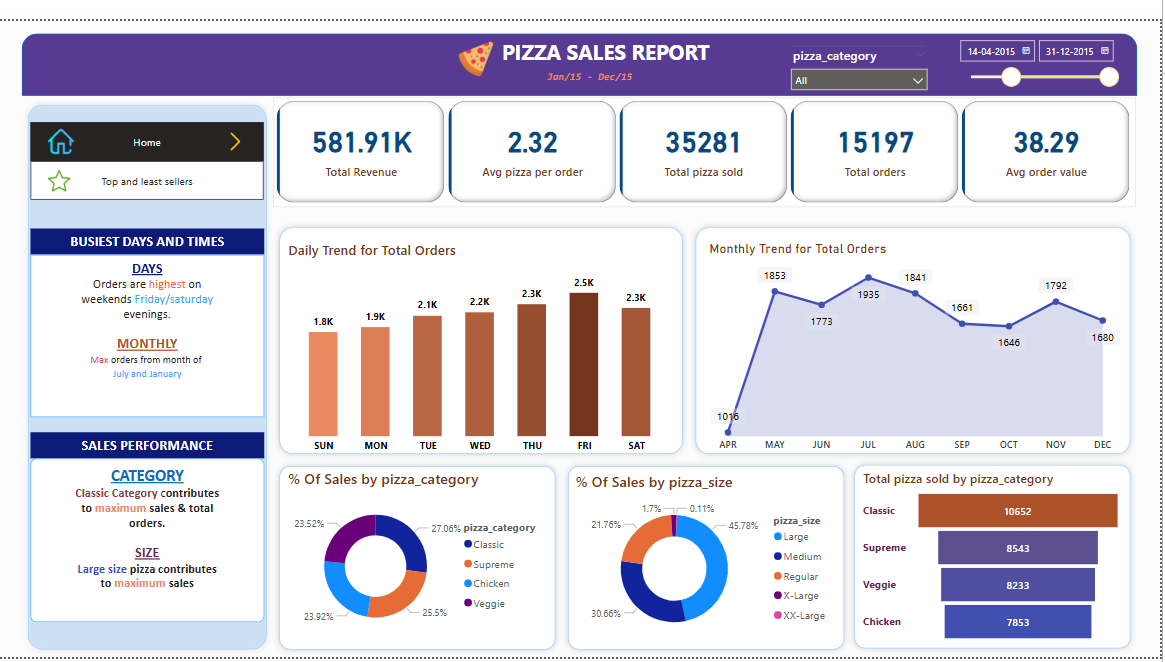

This screenshot's page, from the dashboard's own definition file:
{"tool":"powerbi","page":{"name":"Home","canvas":[1500,820],"ordinal":0},"visuals":[{"type":"cardVisual","fields":{"Data":["public pizza_sales.Total Revenue","public pizza_sales.Avg pizza per order","public pizza_sales.Total pizza sold","public pizza_sales.Total orders","public pizza_sales.Avg order value"]},"box":[355.4,98.1,1114.4,141.5],"z":0},{"type":"shape","box":[30.6,16.1,1439.2,80.4],"z":1000},{"type":"textbox","box":[606.2,16.1,355.4,56.3],"z":2000},{"type":"textbox","box":[688.3,56.3,149.6,41.8],"z":3000},{"type":"image","box":[574.1,20.9,85.2,56.3],"z":4000},{"type":"shape","box":[355.4,257.3,537.1,308.7],"z":5000},{"type":"columnChart","title":"Daily Trend for Total Orders","fields":{"Category":["public pizza_sales.Order Day"],"Y":["public pizza_sales.Total orders"]},"box":[369.9,284.6,506.5,281.4],"z":6000},{"type":"shape","box":[892.5,257.3,577.3,308.7],"z":7000},{"type":"areaChart","title":"Monthly Trend for Total Orders","fields":{"Category":["public pizza_sales.Order Month"],"Y":["public pizza_sales.Total orders"]},"box":[913.4,284.6,541.9,281.4],"z":8000},{"type":"shape","box":[354.8,566.1,372.6,253.2],"z":9000},{"type":"shape","box":[727.4,566.1,372.6,253.2],"z":10000},{"type":"shape","box":[30.6,100,324.2,719.4],"z":11000},{"type":"shape","box":[1096.8,564.5,372.6,253.2],"z":12000},{"type":"donutChart","title":"% Of Sales by pizza_category","fields":{"Category":["public pizza_sales.pizza_category"],"Y":["public pizza_sales.Total Revenue"]},"box":[369.4,577.4,345.2,227.4],"z":13000},{"type":"donutChart","title":"% Of Sales by pizza_size","fields":{"Y":["public pizza_sales.Total Revenue"],"Category":["public pizza_sales.pizza_size"]},"box":[740.3,580.6,345.2,227.4],"z":14000},{"type":"funnel","fields":{"Category":["public pizza_sales.pizza_category"],"Y":["public pizza_sales.Total pizza sold"]},"box":[1111.3,579,343.5,227.4],"z":15000},{"type":"textbox","box":[41.9,267.7,301.6,33.9],"z":16000},{"type":"textbox","box":[41.9,301.6,301.6,209.7],"z":17000},{"type":"textbox","box":[41.9,530.6,301.6,33.9],"z":18000},{"type":"textbox","box":[41.9,564.5,301.6,211.3],"z":19000},{"type":"slicer","fields":{"Values":["public pizza_sales.pizza_category"]},"box":[1012.9,27.4,196.8,69.4],"z":20000},{"type":"slicer","fields":{"Values":["public pizza_sales.order_date"]},"box":[1229,14.5,225.8,85.5],"z":21000},{"type":"pageNavigator","box":[41.9,130.6,301.6,50],"z":22000},{"type":"pageNavigator","box":[41.9,180.6,301.6,50],"z":23000},{"type":"image","box":[59.7,133.9,43.5,43.5],"z":23001},{"type":"image","box":[283.9,138.7,45.2,33.9],"z":23002},{"type":"image","box":[59.7,187.1,38.7,38.7],"z":23003}]}

Visuals, with their boxes on the page's 1500x820 design canvas (x1, y1, x2, y2). These are canvas units, not pixel positions in the 1165x662 screenshot, which may show the page scaled, cropped or inside an application window:
cardVisual - public pizza_sales.Total Revenue x public pizza_sales.Avg pizza per order: locate(355, 98, 1470, 240)
shape: locate(31, 16, 1470, 96)
textbox: locate(606, 16, 962, 72)
textbox: locate(688, 56, 838, 98)
image: locate(574, 21, 659, 77)
shape: locate(355, 257, 892, 566)
"Daily Trend for Total Orders" columnChart: locate(370, 285, 876, 566)
shape: locate(892, 257, 1470, 566)
"Monthly Trend for Total Orders" areaChart: locate(913, 285, 1455, 566)
shape: locate(355, 566, 727, 819)
shape: locate(727, 566, 1100, 819)
shape: locate(31, 100, 355, 819)
shape: locate(1097, 564, 1469, 818)
"% Of Sales by pizza_category" donutChart: locate(369, 577, 715, 805)
"% Of Sales by pizza_size" donutChart: locate(740, 581, 1086, 808)
funnel - public pizza_sales.pizza_category x public pizza_sales.Total pizza sold: locate(1111, 579, 1455, 806)
textbox: locate(42, 268, 344, 302)
textbox: locate(42, 302, 344, 511)
textbox: locate(42, 531, 344, 564)
textbox: locate(42, 564, 344, 776)
slicer - public pizza_sales.pizza_category: locate(1013, 27, 1210, 97)
slicer - public pizza_sales.order_date: locate(1229, 14, 1455, 100)
pageNavigator: locate(42, 131, 344, 181)
pageNavigator: locate(42, 181, 344, 231)
image: locate(60, 134, 103, 177)
image: locate(284, 139, 329, 173)
image: locate(60, 187, 98, 226)
